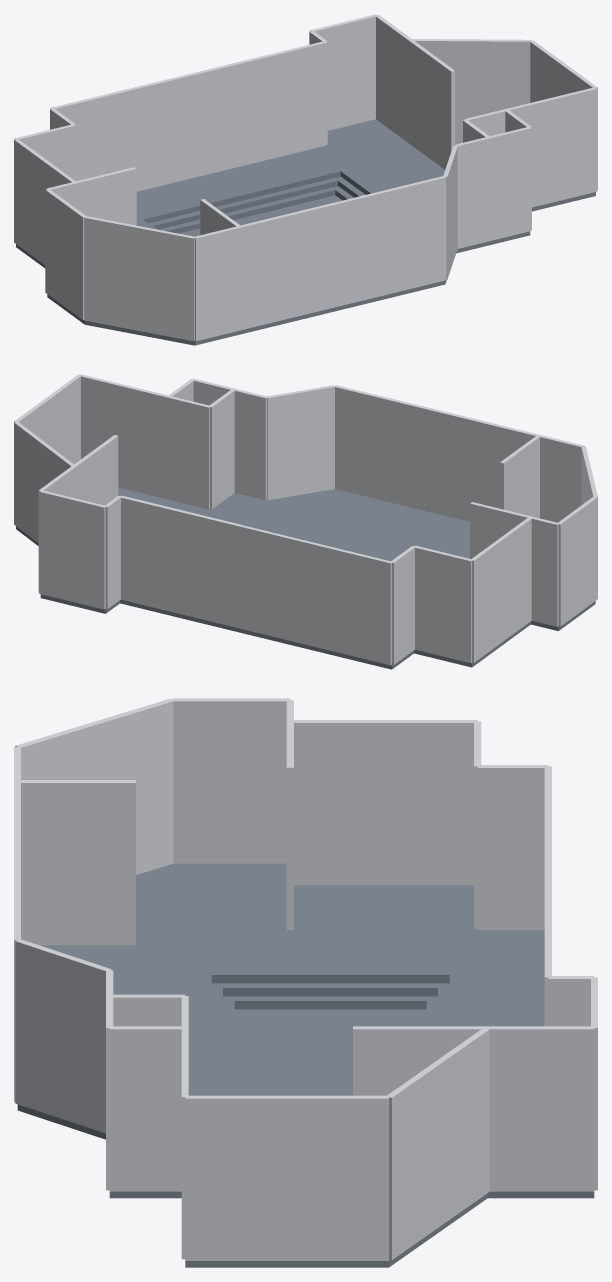
The model's file is Level01_FirstFloor_Structure.fbx.
3 renders of one model, top to bottom at view 1: azimuth 30°, elevation 25°; view 2: azimuth 150°, elevation 25°; view 3: azimuth 270°, elevation 25°, orthographic. The views are drawn at different scales.
Parts seen in each view (by area): view 1: External_10, External_3, Ground_WithSunkenCutout, External_9, External_0, External_12, External_14, External_16, External_1, External_8, External_6, Bathroom_North_0 (+9 smaller); view 2: External_3, External_10, Ground_WithSunkenCutout, External_14, External_11, External_1, External_6, External_5, Vent_South_0, External_8, External_12, External_16 (+9 smaller); view 3: Ground_WithSunkenCutout, External_15, External_6, External_0, Dining_East_0, External_8, External_16, External_11, External_9, External_13, External_4, DanceFloor_Bottom (+12 smaller).
Boxes of the visible parts, x1,y1,x2,y2 form: External_10: (194,176,446,341); External_3: (50,41,326,191); Ground_WithSunkenCutout: (16,119,595,345); External_9: (84,216,194,341); External_0: (375,14,454,169); External_12: (454,126,531,248); External_14: (505,87,597,207); External_16: (411,39,531,143); External_1: (310,14,377,130); External_8: (45,189,86,319); External_6: (14,139,76,264); Bathroom_North_0: (76,167,136,225); External_3: (120,495,392,665); External_10: (334,385,584,522); Ground_WithSunkenCutout: (16,487,595,669); External_14: (79,374,168,499); External_11: (267,385,334,500); External_1: (39,490,105,609); External_6: (471,517,532,662); External_5: (414,545,472,663); Vent_South_0: (168,396,209,509); External_8: (558,496,597,626); External_12: (192,378,267,500); External_16: (14,422,75,542); Ground_WithSunkenCutout: (17,863,594,1267); External_15: (185,1095,388,1260); External_6: (290,720,477,885); External_0: (353,1026,594,1191); Dining_East_0: (21,780,135,945); External_8: (172,698,290,863); External_16: (387,1029,489,1259); External_11: (15,939,111,1133); External_9: (15,699,173,874); External_13: (109,1026,185,1191); External_4: (477,765,548,930); DanceFloor_Bottom: (246,1014,414,1095).
Size of the model in its own units: 1057 by 240 by 652.
